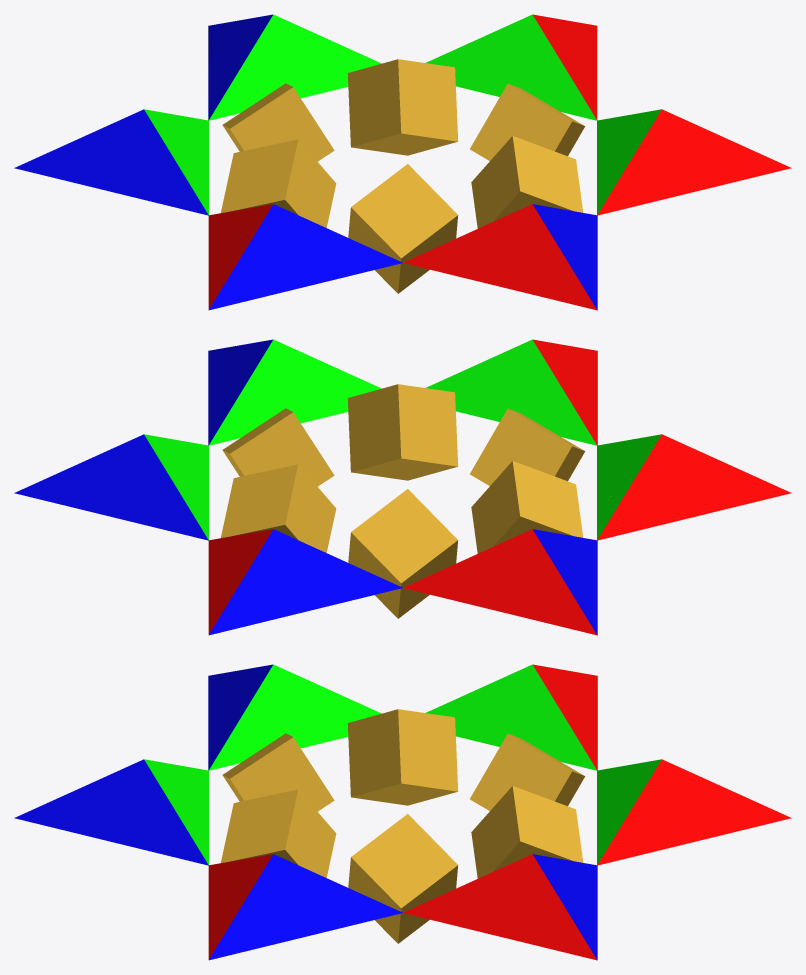
The model's file is triangle-flower-textured.glb.
3 views of the same model, one above another, from view 1: azimuth 30°, elevation 25°; view 2: azimuth 150°, elevation 25°; view 3: azimuth 270°, elevation 25° (orthographic).
Visible parts, largest first — view 1: Body, Petal.004, Petal.003, Petal.002, Petal.005, Petal.006, Petal.001; view 2: Body, Petal.002, Petal.001, Petal.003, Petal.006, Petal.004, Petal.005; view 3: Body, Petal.006, Petal.005, Petal.001, Petal.004, Petal.002, Petal.003.
Part boxes in pixels (x1,y1,x2,y2): Body: (221, 59, 585, 293); Petal.004: (403, 204, 597, 310); Petal.003: (208, 204, 402, 310); Petal.002: (14, 109, 208, 215); Petal.005: (597, 109, 791, 215); Petal.006: (426, 14, 597, 120); Petal.001: (208, 14, 381, 120); Body: (221, 384, 585, 618); Petal.002: (403, 529, 597, 635); Petal.001: (208, 529, 402, 635); Petal.003: (597, 434, 791, 540); Petal.006: (14, 434, 208, 540); Petal.004: (426, 339, 597, 445); Petal.005: (208, 339, 381, 445); Body: (221, 709, 585, 943); Petal.006: (403, 854, 597, 960); Petal.005: (208, 854, 402, 960); Petal.001: (597, 759, 791, 865); Petal.004: (14, 759, 208, 865); Petal.002: (426, 664, 597, 770); Petal.003: (208, 664, 381, 770).
Bounding box in the file's own units: 5.18 × 0.9814 × 5.98.
2 materials, 1 textured.
